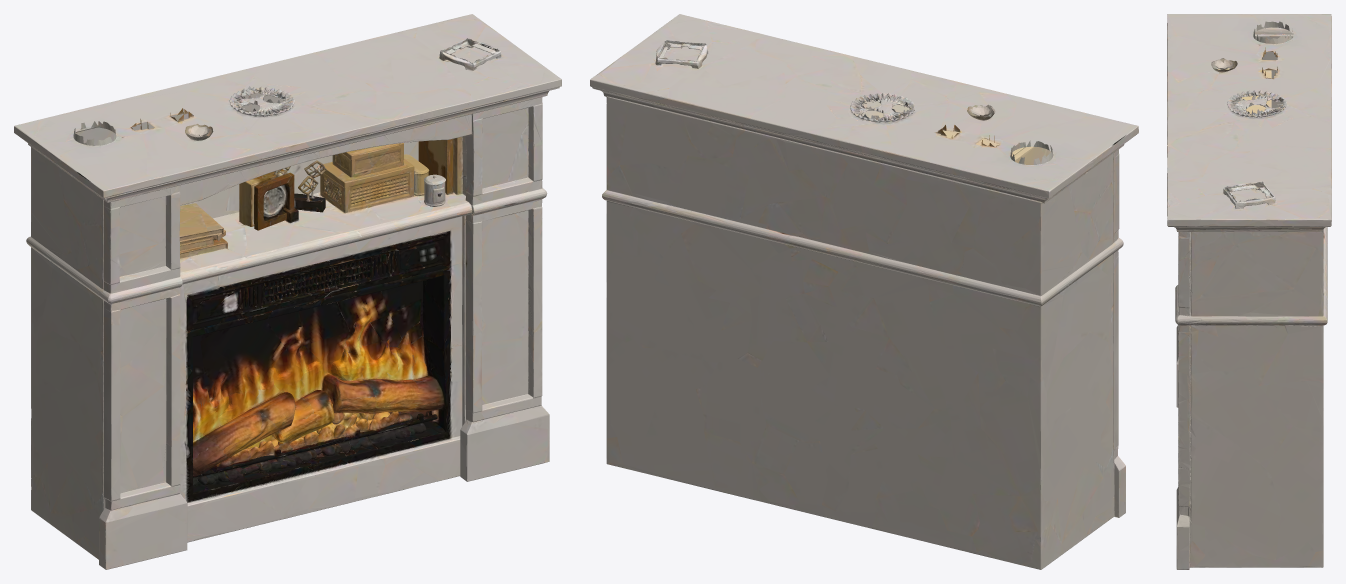
Rendered from kamin-01.glb.
3 views of the same model, side by side, from view 1: azimuth 30°, elevation 25°; view 2: azimuth 150°, elevation 25°; view 3: azimuth 270°, elevation 25° (orthographic). The views are drawn at different scales.
Parts seen in each view (by area): view 1: mesh_0; view 2: mesh_0; view 3: mesh_0.
Part boxes in pixels (x1,y1,x2,y2): mesh_0: (14, 14, 561, 569); mesh_0: (590, 14, 1138, 569); mesh_0: (1167, 14, 1331, 569).
Bounding box in the file's own units: 1.78 × 1.46 × 0.603.
Materials: 1 (1 with a texture image).
